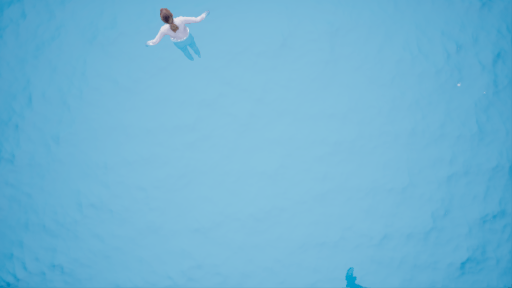person: (145, 2, 206, 63)
